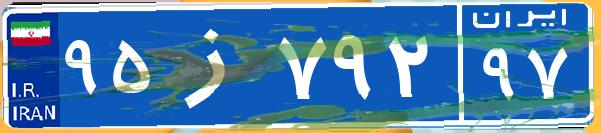2: (385, 28, 445, 110)
5: (110, 28, 158, 105)
7: (273, 28, 330, 110), (525, 38, 570, 115)
9: (330, 28, 385, 110), (57, 26, 110, 107), (475, 38, 525, 113)
ز: (158, 15, 273, 115)
